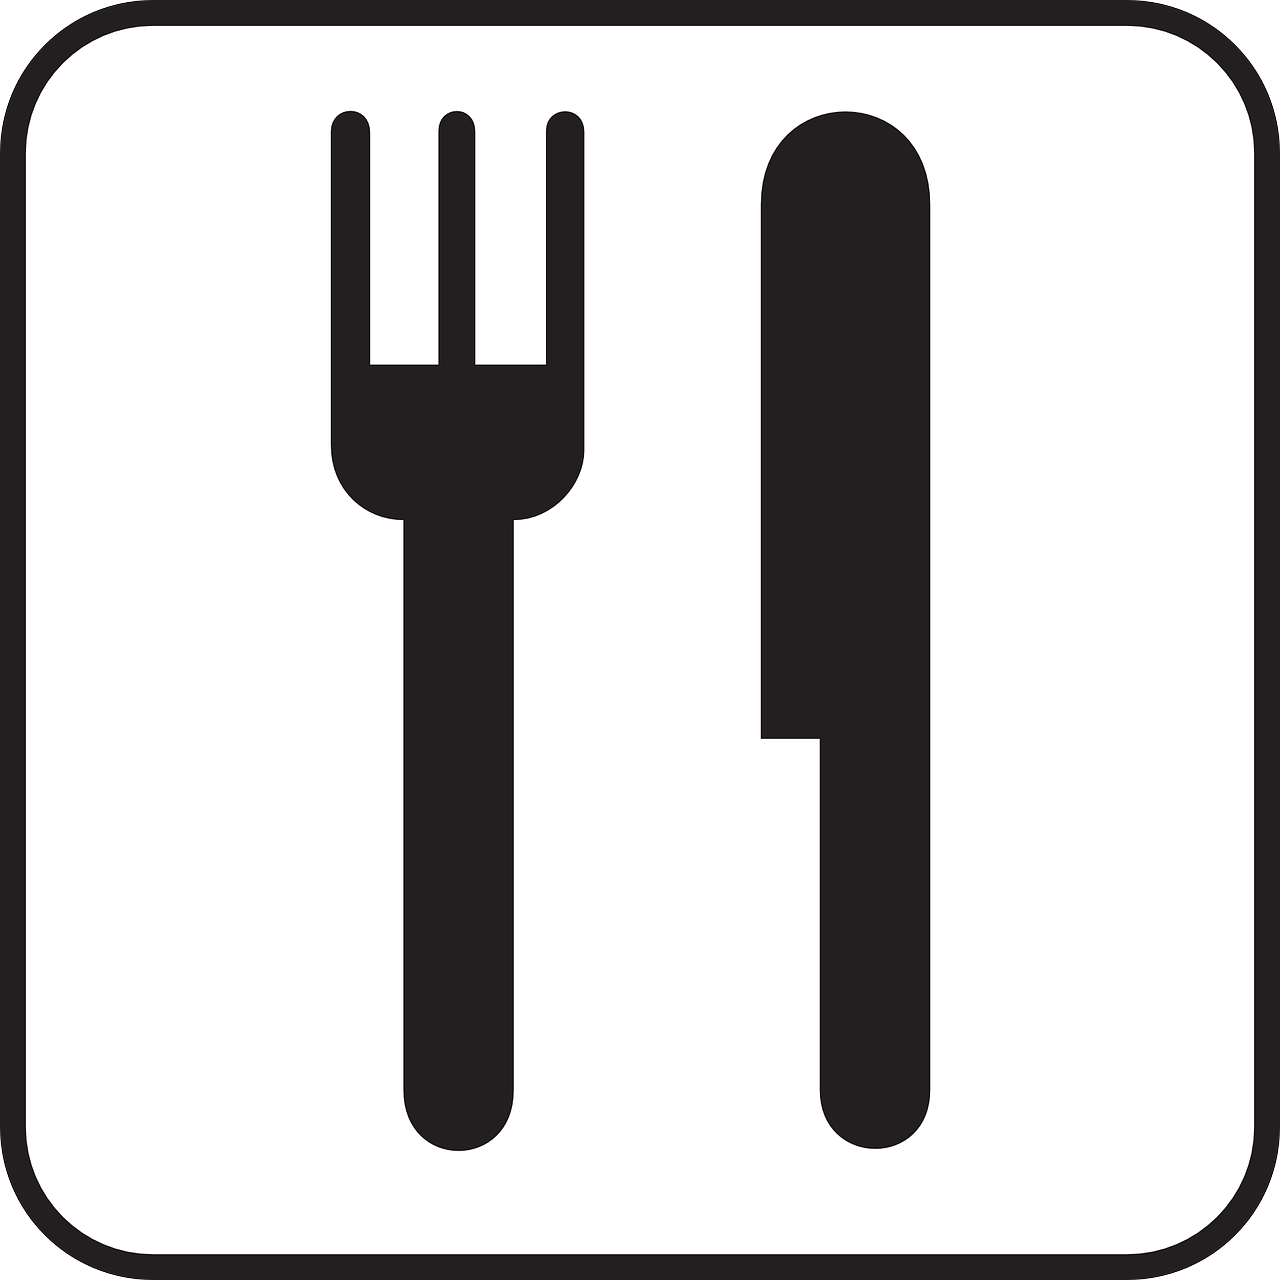knife: (750, 97, 947, 1152)
